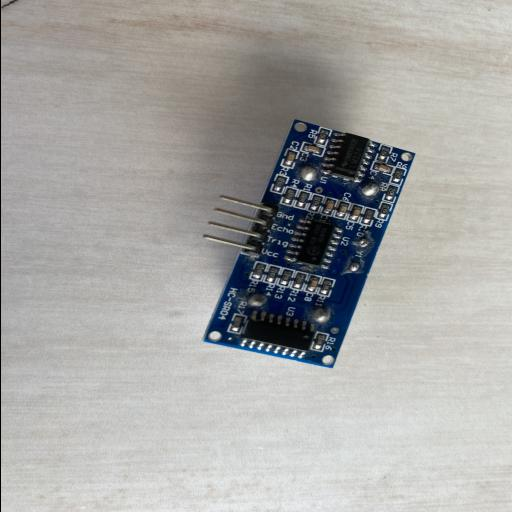Ultrasonic Sensor: (200, 118, 416, 370)
